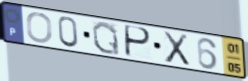0: (56, 16, 80, 49)
6: (195, 36, 219, 71)
O: (25, 11, 54, 44)
P: (123, 24, 153, 59)
Q: (91, 20, 122, 57)
X: (161, 30, 191, 68)
